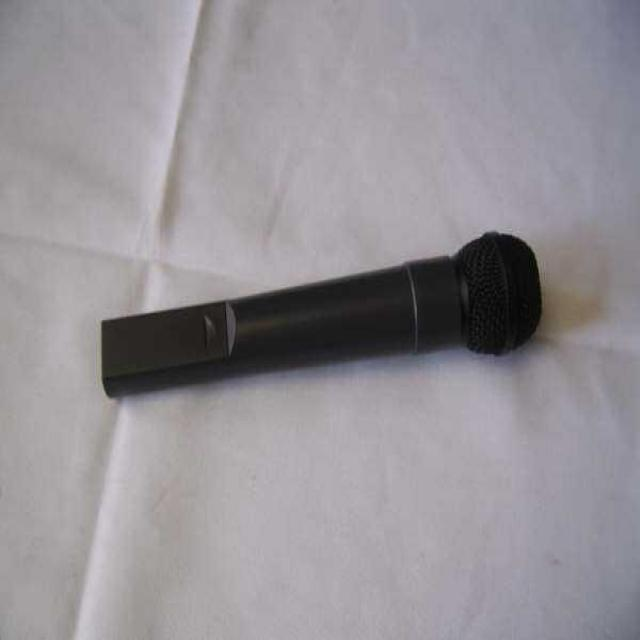microphone: (98, 224, 540, 401)
